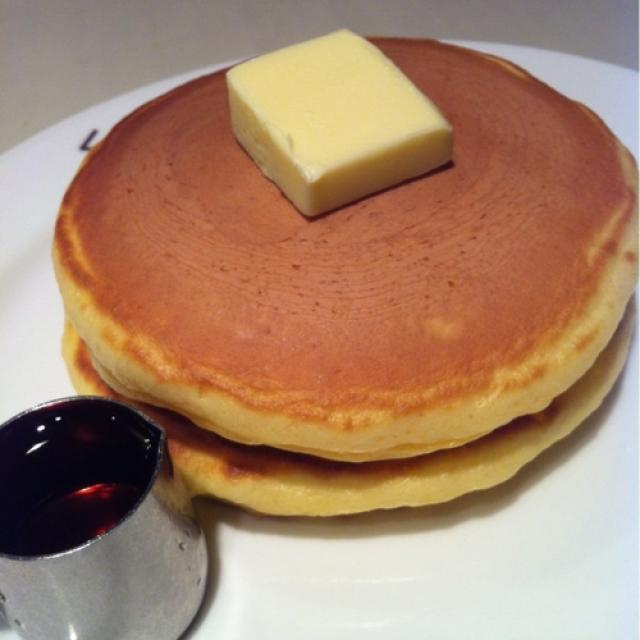米饭主食: (0, 99, 440, 509)
豆腐料理: (535, 312, 640, 594)
